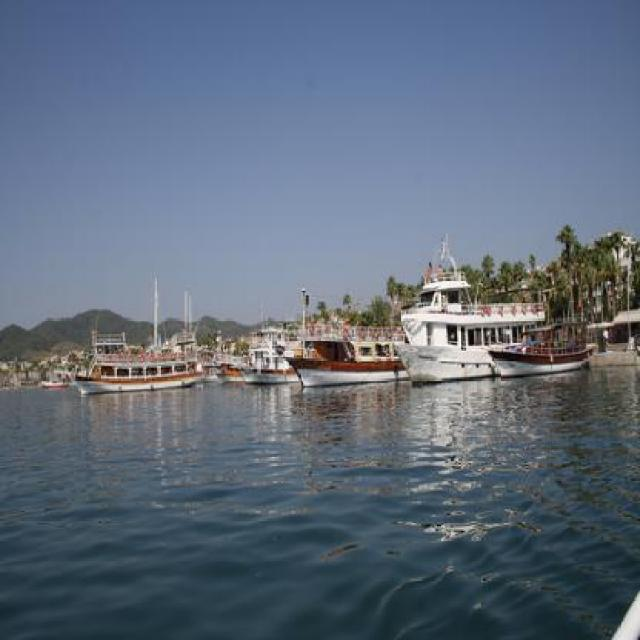ship: (394, 252, 544, 390), (278, 294, 400, 392), (68, 332, 200, 392), (489, 328, 593, 387), (238, 318, 294, 385), (38, 371, 68, 387)
